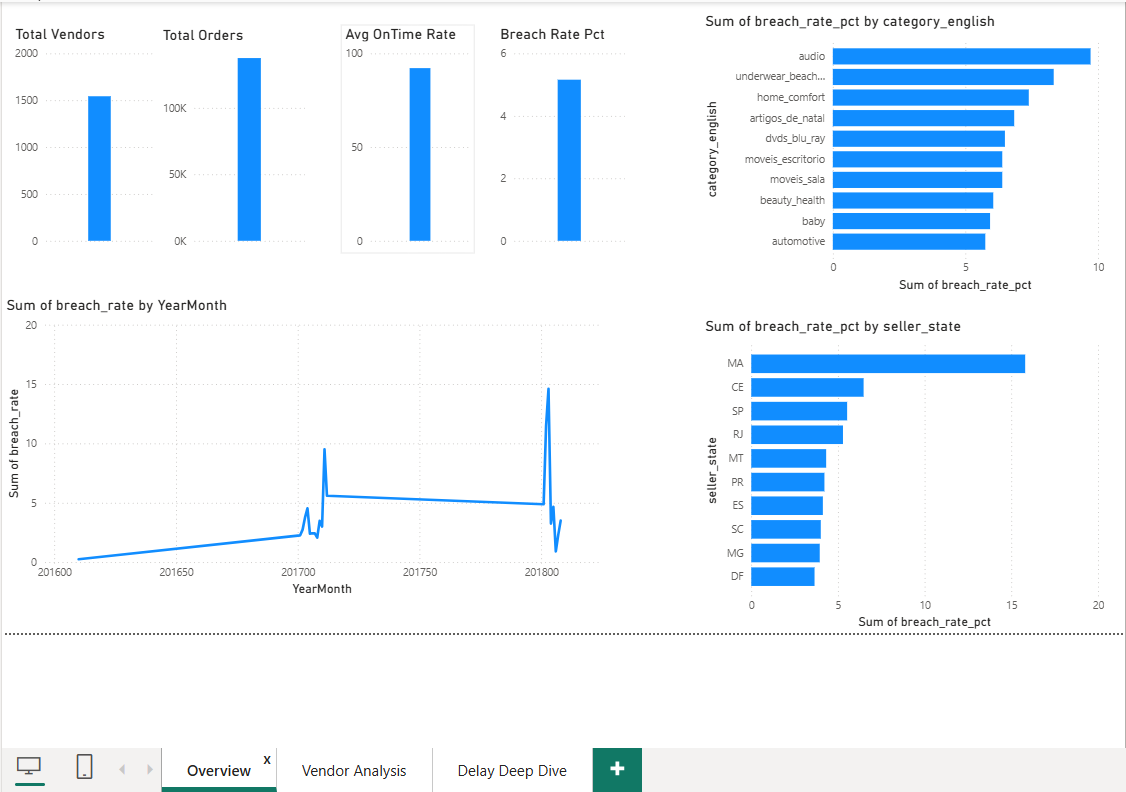

The dashboard page shown, as its layout file describes it:
{"tool":"powerbi","page":{"name":"Overview","canvas":[1280,720],"ordinal":0},"visuals":[{"type":"clusteredColumnChart","fields":{"Y":["vendor_scorecard_full.Total Vendors"]},"box":[10,25.7,168.2,260.8],"z":0},{"type":"clusteredColumnChart","fields":{"Y":["vendor_scorecard_full.Total Orders"]},"box":[178.2,27.1,172.5,259.4],"z":1000},{"type":"clusteredColumnChart","fields":{"Y":["vendor_scorecard_full.Avg OnTime Rate"]},"box":[386.3,25.7,152.5,260.8],"z":2000},{"type":"clusteredColumnChart","fields":{"Y":["vendor_scorecard_full.Breach Rate Pct"]},"box":[563,25.7,152.5,260.8],"z":3000},{"type":"lineChart","fields":{"Y":["Sum(monthly_trend_lag.breach_rate)"],"Category":["monthly_trend_lag.YearMonth"]},"box":[0,335,695.6,347.8],"z":4000},{"type":"clusteredBarChart","fields":{"Category":["breach_by_state.seller_state"],"Y":["Sum(breach_by_state.breach_rate_pct)"]},"box":[797.3,359.5,465.2,360.9],"z":5000},{"type":"clusteredBarChart","fields":{"Category":["breach_by_category.category_english"],"Y":["Sum(breach_by_category.breach_rate_pct)"]},"box":[797.3,11,465.2,323.8],"z":6000}]}

Visuals, with their boxes on the page's 1280x720 design canvas (x1, y1, x2, y2). These are canvas units, not pixel positions in the 1126x792 screenshot, which may show the page scaled, cropped or inside an application window:
clusteredColumnChart - vendor_scorecard_full.Total Vendors: [10,26,178,286]
clusteredColumnChart - vendor_scorecard_full.Total Orders: [178,27,351,286]
clusteredColumnChart - vendor_scorecard_full.Avg OnTime Rate: [386,26,539,286]
clusteredColumnChart - vendor_scorecard_full.Breach Rate Pct: [563,26,716,286]
lineChart - Sum(monthly_trend_lag.breach_rate) x monthly_trend_lag.YearMonth: [0,335,696,683]
clusteredBarChart - breach_by_state.seller_state x Sum(breach_by_state.breach_rate_pct): [797,360,1262,720]
clusteredBarChart - breach_by_category.category_english x Sum(breach_by_category.breach_rate_pct): [797,11,1262,335]
